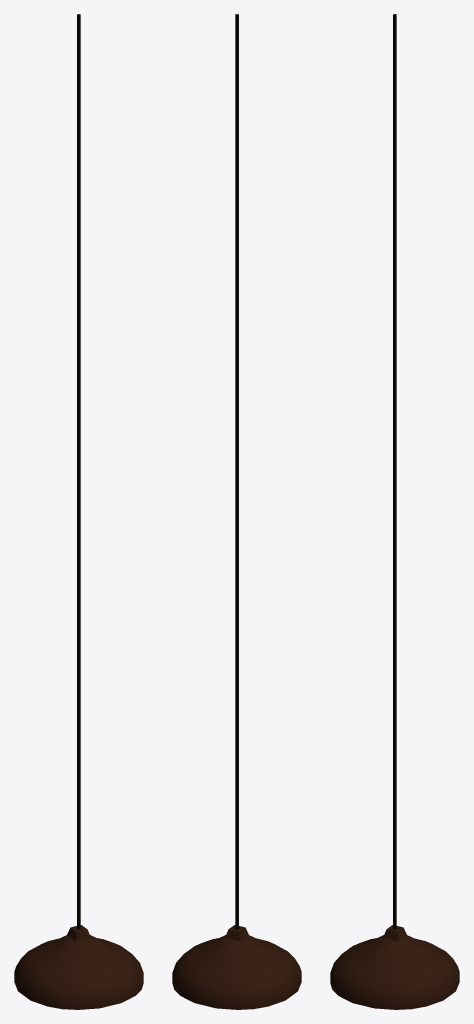
File: Hanging Light.FBX
The picture shows the model from 3 angles, left to right: view 1: azimuth 30°, elevation 25°; view 2: azimuth 150°, elevation 25°; view 3: azimuth 330°, elevation 25°; orthographic projection.
Parts seen in each view (by area): view 1: Box003, Cylinder002; view 2: Box003, Cylinder002; view 3: Box003, Cylinder002.
Part boxes in pixels (x1,y1,x2,y2): Box003: (14,925,143,1009); Cylinder002: (77,14,80,929); Box003: (172,925,301,1009); Cylinder002: (235,14,238,929); Box003: (330,925,459,1009); Cylinder002: (393,14,396,929).
Bounding box in the file's own units: 0.491 × 4.17 × 0.491.
